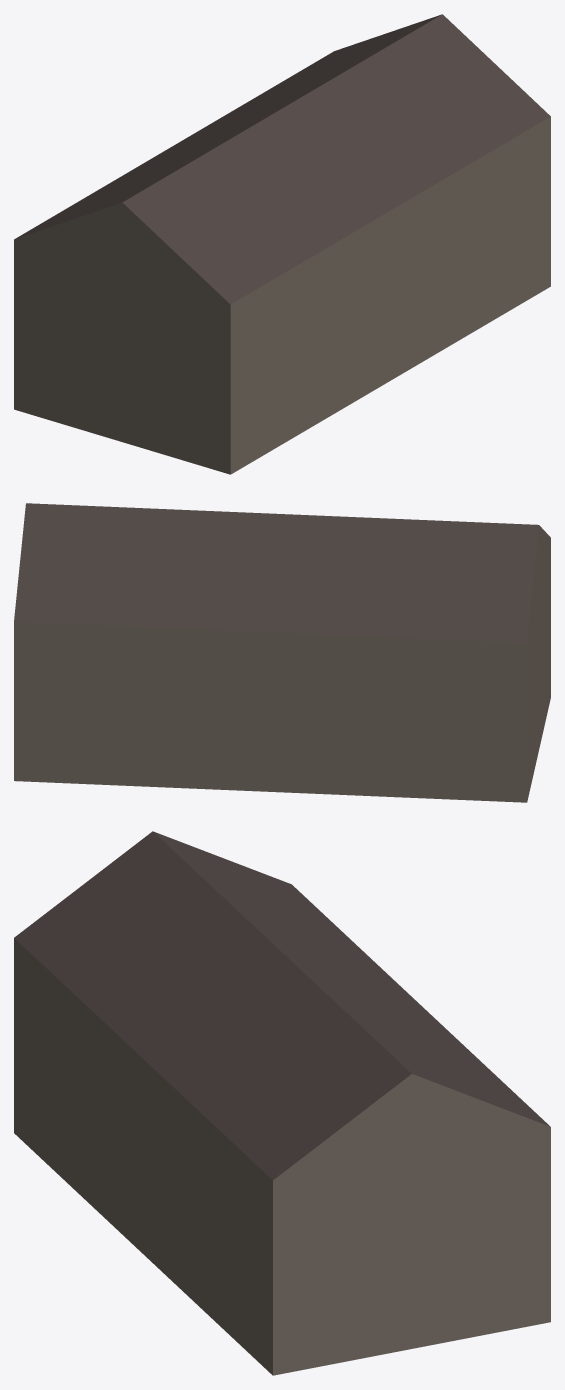
3 renders of one model, top to bottom at view 1: azimuth 30°, elevation 25°; view 2: azimuth 150°, elevation 25°; view 3: azimuth 270°, elevation 25°, orthographic. The views are drawn at different scales.
Visible parts, largest first — view 1: HP-w373833543; view 2: HP-w373833543; view 3: HP-w373833543.
Part boxes in pixels (bbox=[...]): HP-w373833543: bbox=[14, 14, 550, 474]; HP-w373833543: bbox=[14, 503, 550, 802]; HP-w373833543: bbox=[14, 831, 550, 1375].
Size of the model in its own units: 29.29 by 12.69 by 22.44.
